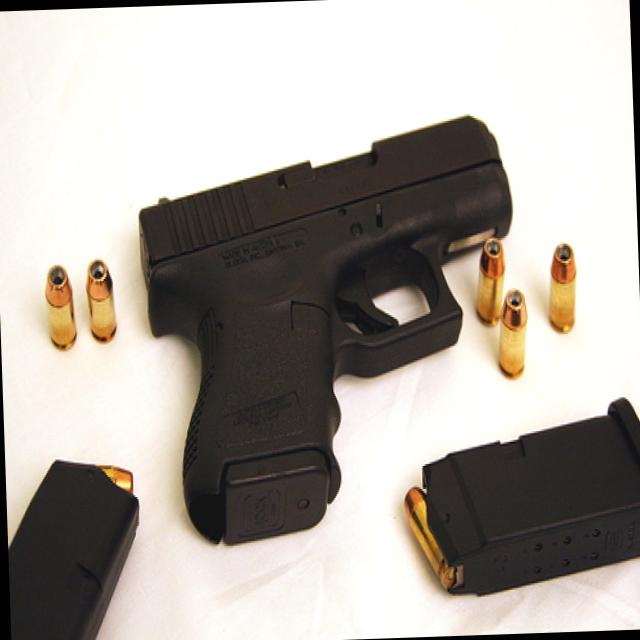handgun: (131, 102, 514, 550)
